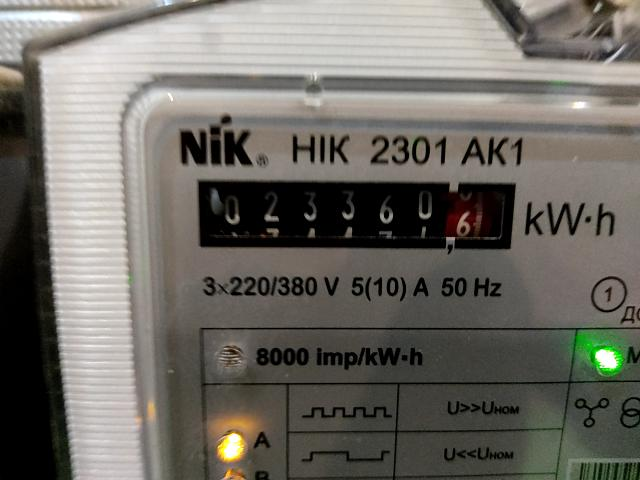0: (221, 191, 243, 226), (414, 187, 436, 222)
2: (261, 189, 282, 224)
3: (300, 189, 320, 224), (339, 188, 357, 222)
6: (376, 191, 396, 225), (454, 206, 472, 239)
screen: (184, 168, 535, 267)
